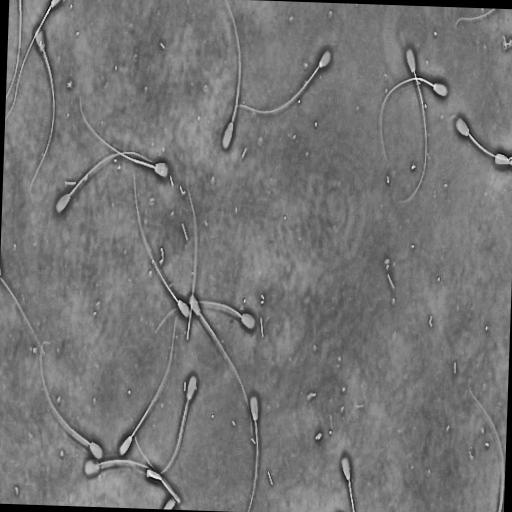folded-tail: (132, 421, 180, 502)
loose-tail: (183, 176, 199, 342), (5, 0, 23, 102)
normal: (115, 298, 181, 460), (187, 289, 254, 443), (131, 162, 193, 321), (37, 335, 106, 464), (224, 45, 334, 120), (77, 93, 170, 178), (52, 149, 162, 220), (376, 74, 452, 174), (27, 21, 58, 201), (399, 43, 428, 208), (130, 413, 181, 505), (154, 298, 259, 337), (219, 0, 244, 156), (453, 113, 512, 163), (245, 390, 260, 512)
